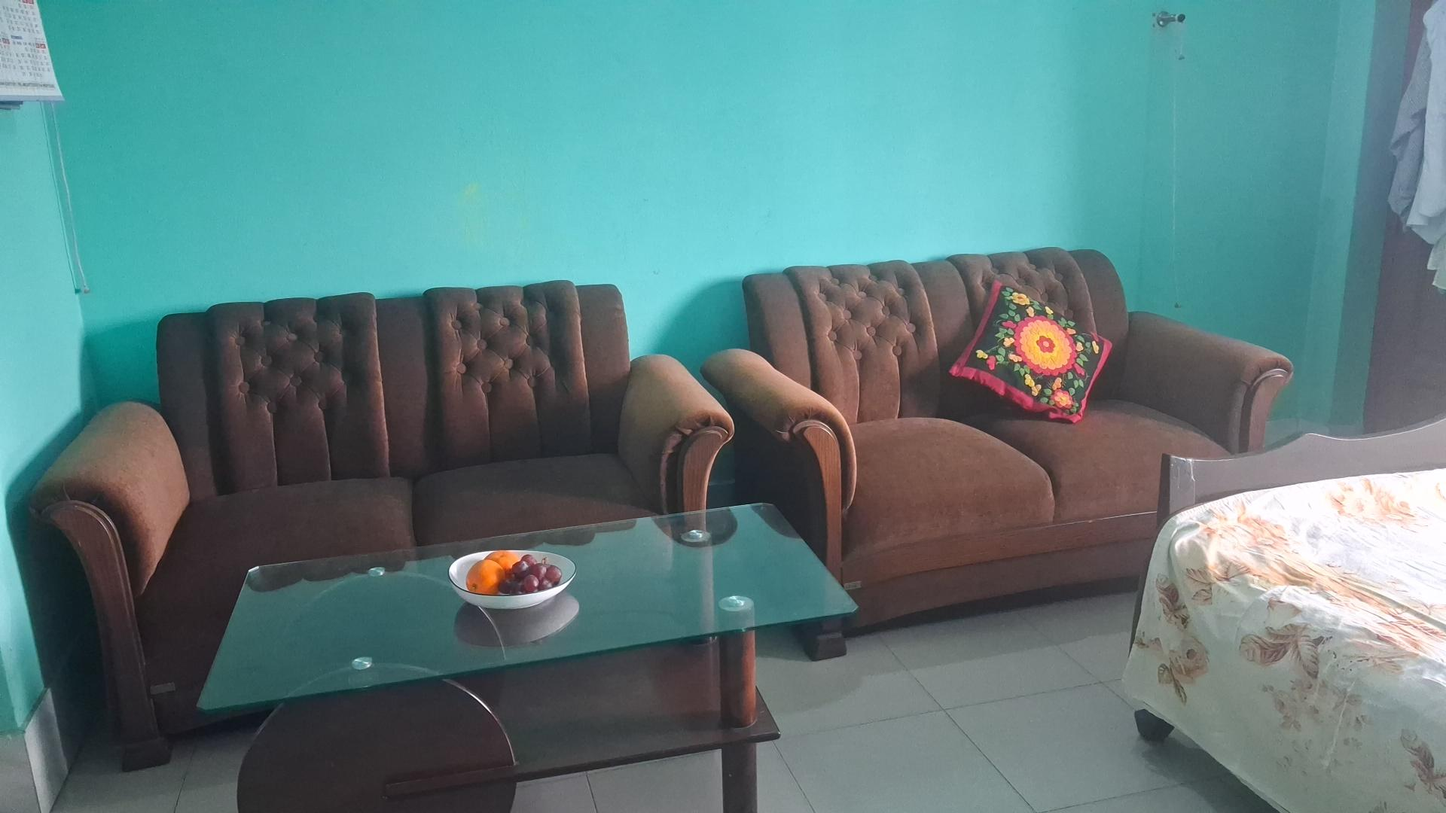Bowl: (447, 547, 576, 608)
Food: (466, 553, 564, 590)
Pillow: (948, 282, 1116, 423)
Table: (198, 497, 856, 813)
